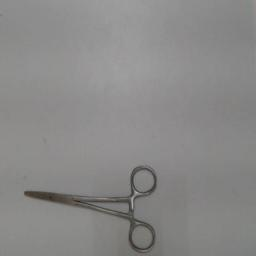Mayo Needle Holder: (19, 161, 161, 255)
